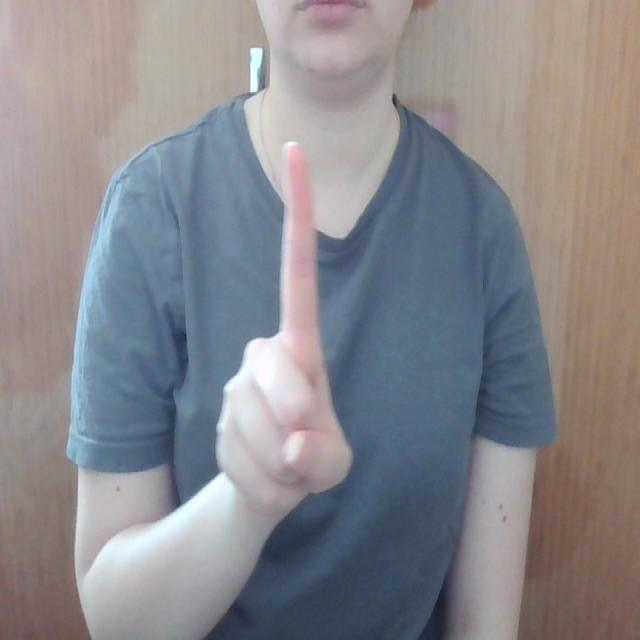Hayir: (210, 123, 366, 526)
